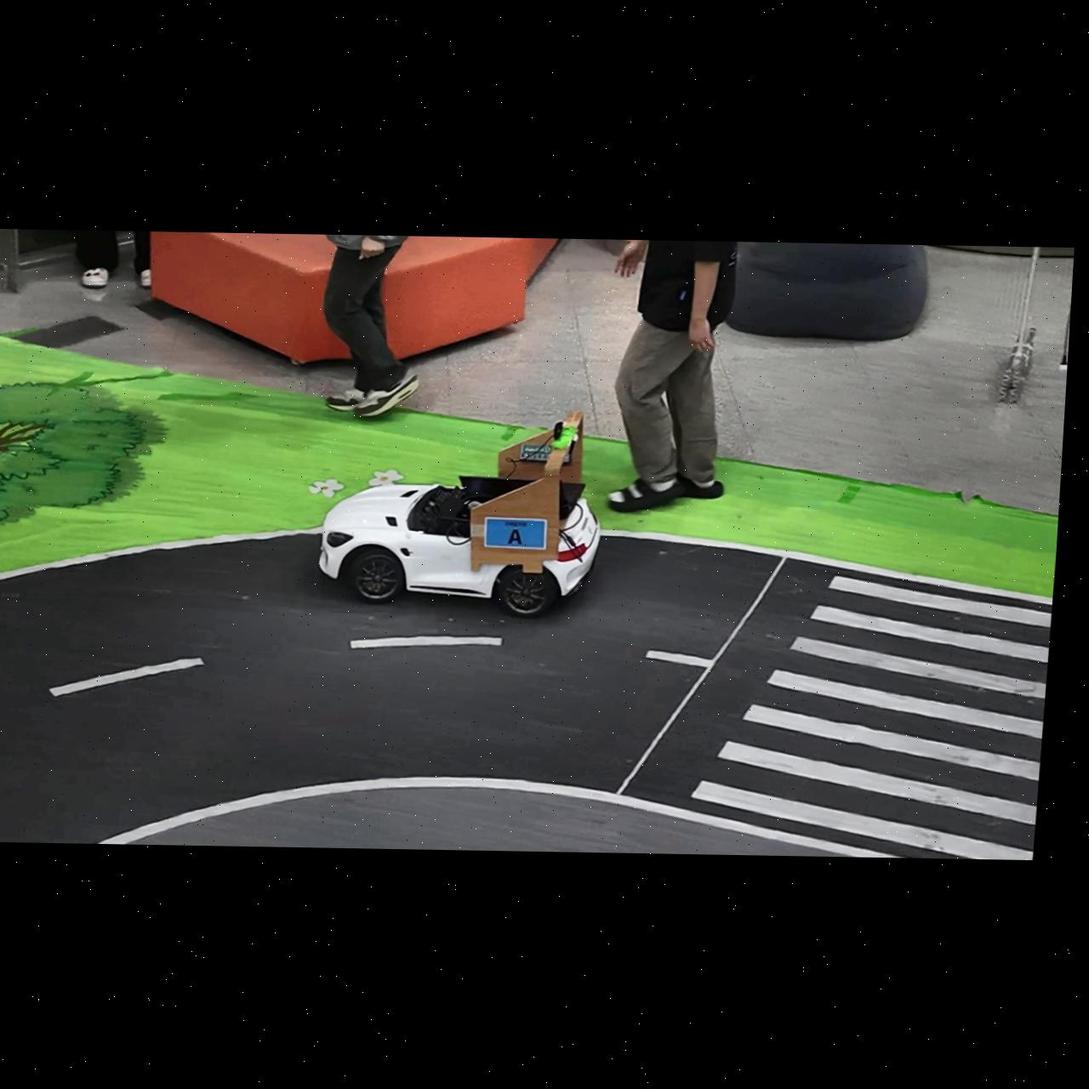broken_line: (49, 659, 205, 696), (351, 636, 501, 649), (645, 651, 712, 668)
crosswalk: (691, 576, 1051, 859)
